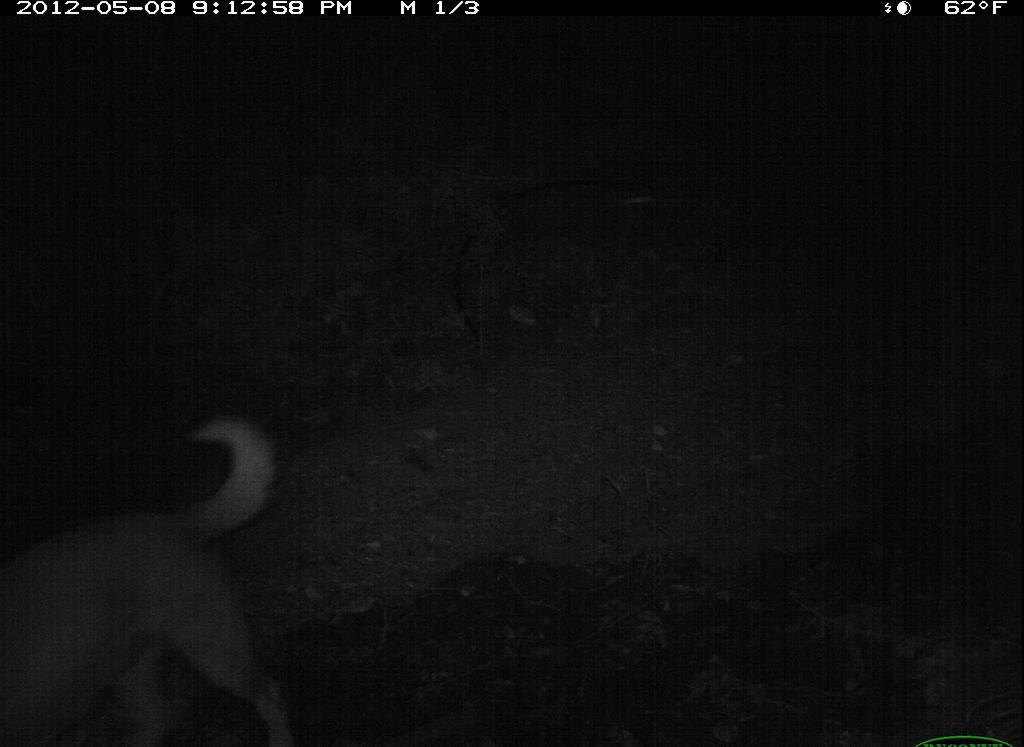dog: (2, 396, 381, 747)
